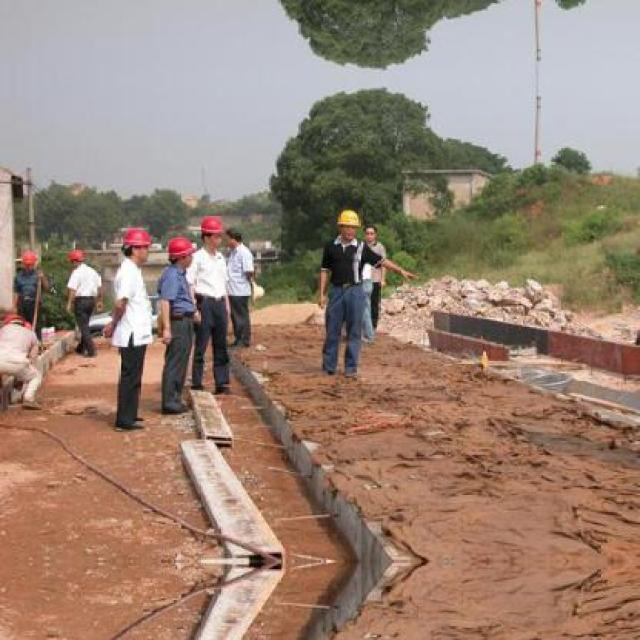helmet: (119, 226, 155, 263), (195, 213, 223, 248), (167, 234, 196, 267), (338, 208, 360, 242), (19, 248, 39, 276), (65, 245, 86, 269), (5, 310, 26, 330)
